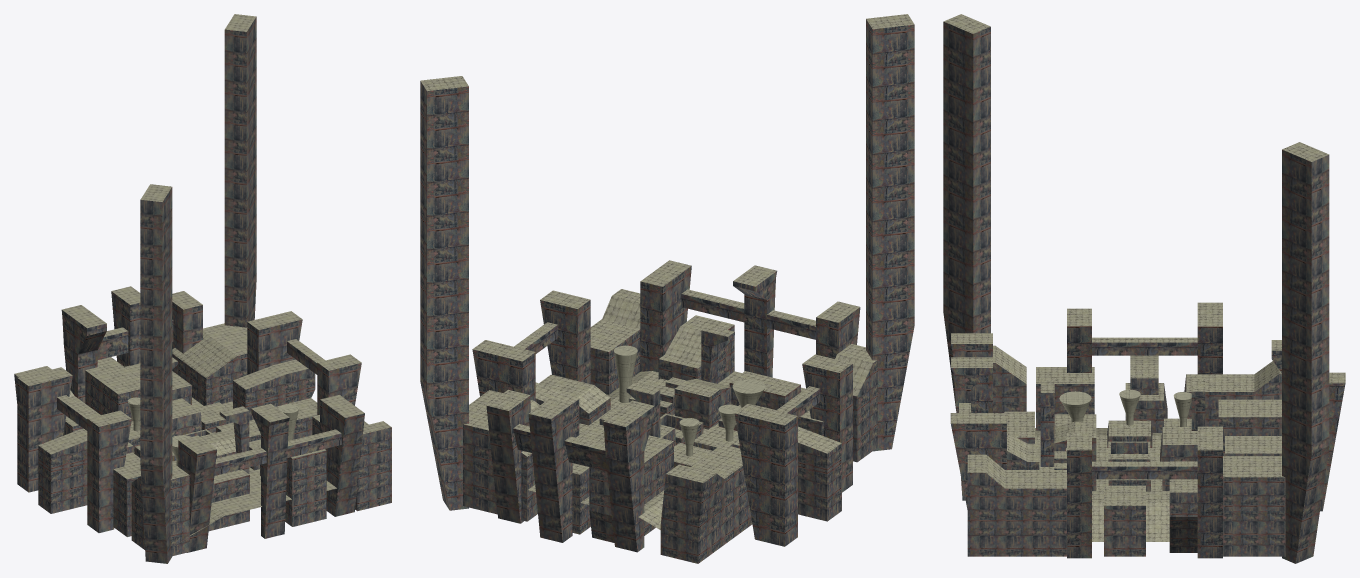
File: SM_Republic_08.fbx
3 renders of one model, left to right at view 1: azimuth 30°, elevation 25°; view 2: azimuth 150°, elevation 25°; view 3: azimuth 270°, elevation 25°, orthographic. The views are drawn at different scales.
Visible parts, largest first — view 1: SM_Republic_08.001, SM_Republic_08; view 2: SM_Republic_08.001, SM_Republic_08; view 3: SM_Republic_08.001, SM_Republic_08.
Boxes of the visible parts, box(x1,y1,x2,y2) form: SM_Republic_08.001: box(14, 14, 391, 563); SM_Republic_08: box(128, 397, 336, 544); SM_Republic_08.001: box(420, 14, 914, 563); SM_Republic_08: box(528, 371, 805, 529); SM_Republic_08.001: box(943, 14, 1345, 563); SM_Republic_08: box(1035, 414, 1197, 541).
Bounding box in the file's own units: 9009 × 11076 × 9877.
